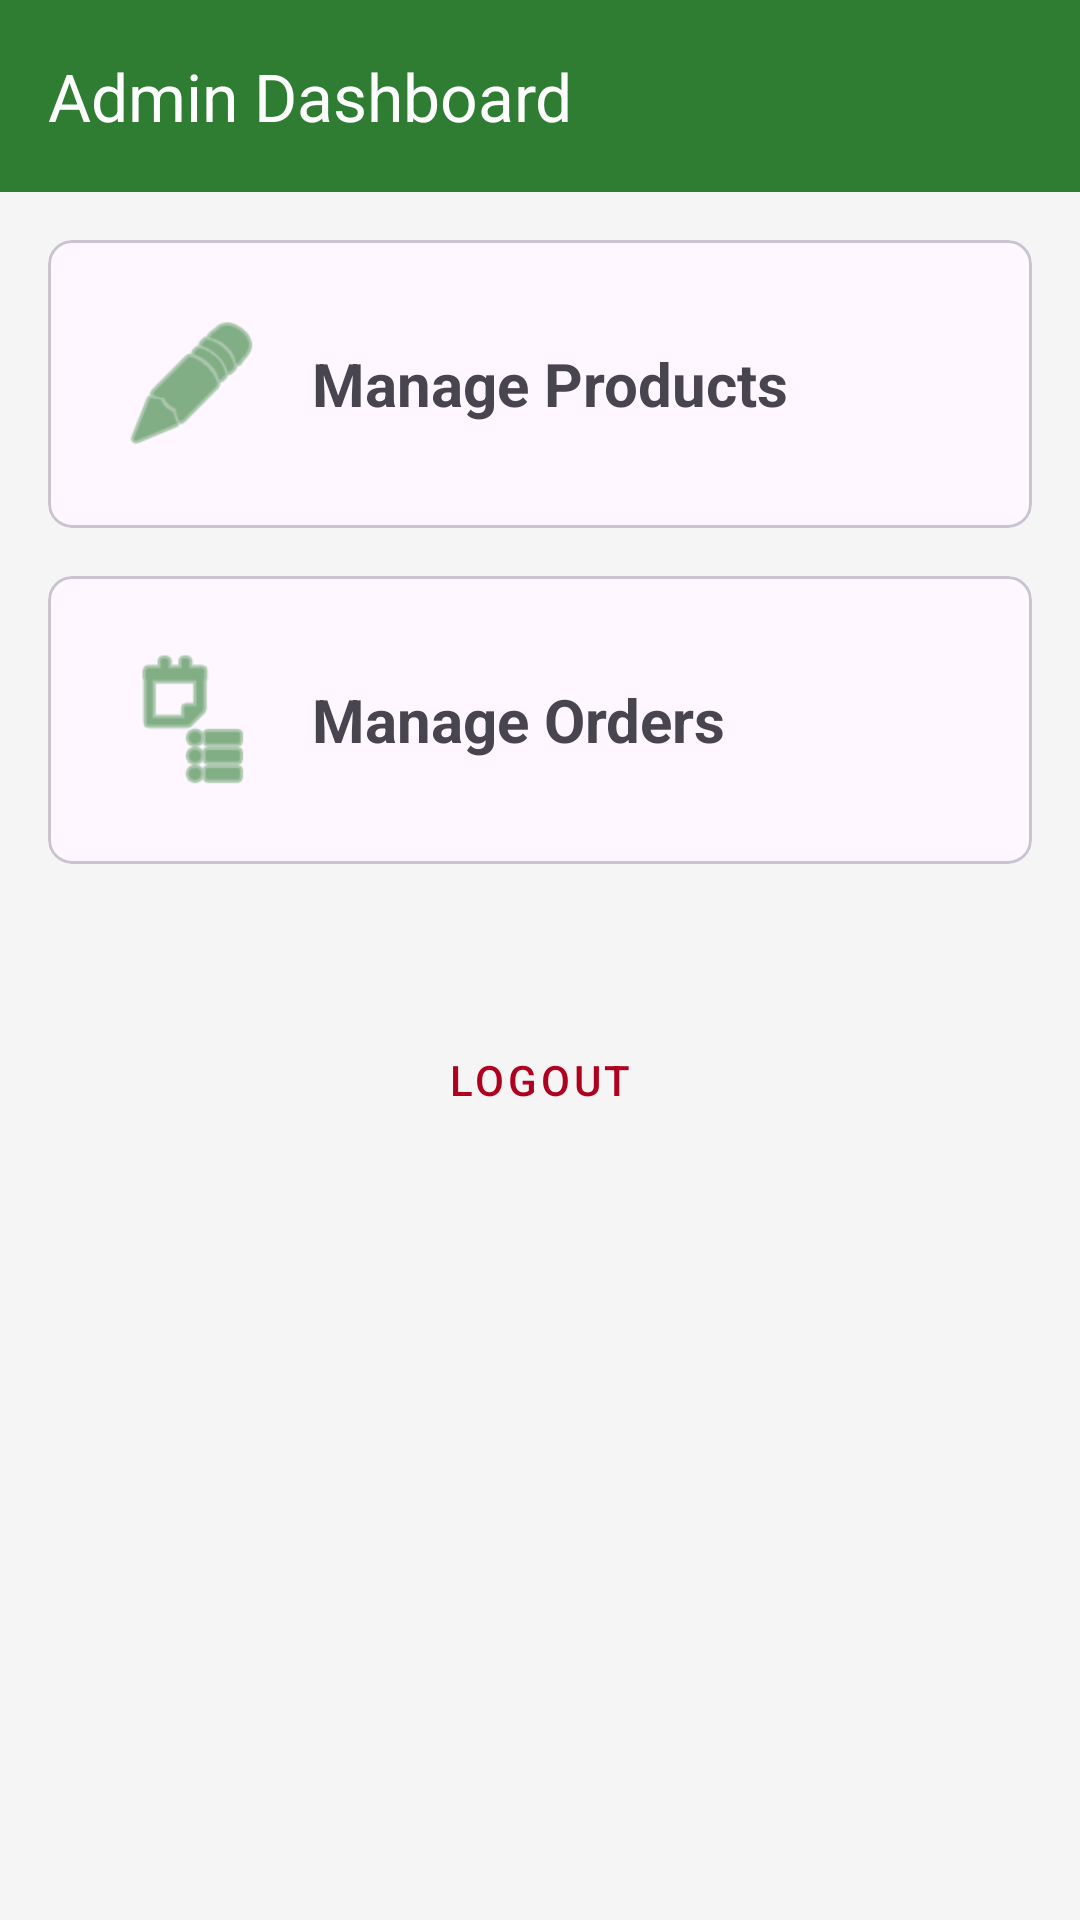

Point at icon controls on the screen. Image size 1080 x 1920, points as point (x, y).
agenda: point (192, 719)
edit: point (191, 383)
